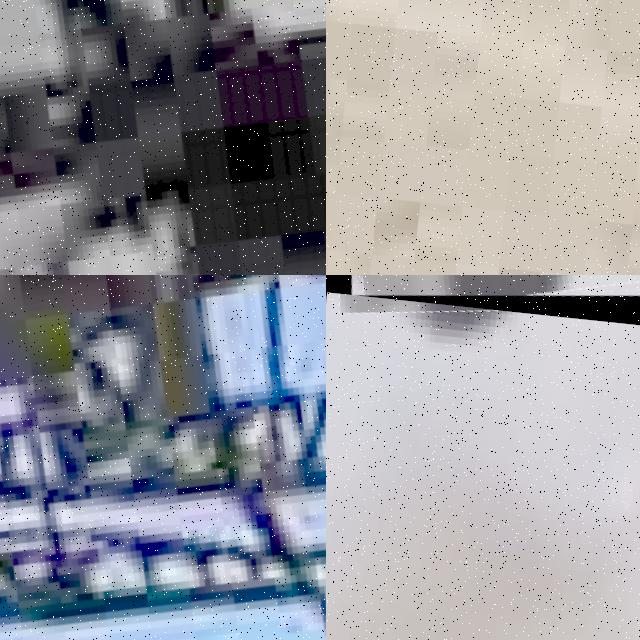0: (0, 275, 326, 640), (0, 0, 326, 275)
drone: (326, 275, 640, 359)
